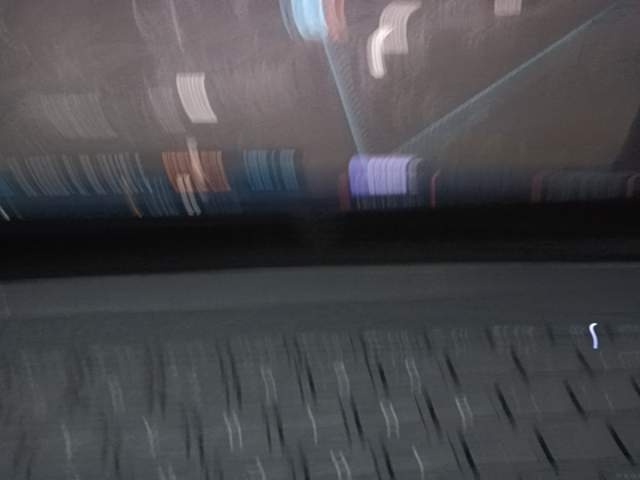pothole: (106, 403, 316, 480), (533, 403, 640, 480)
